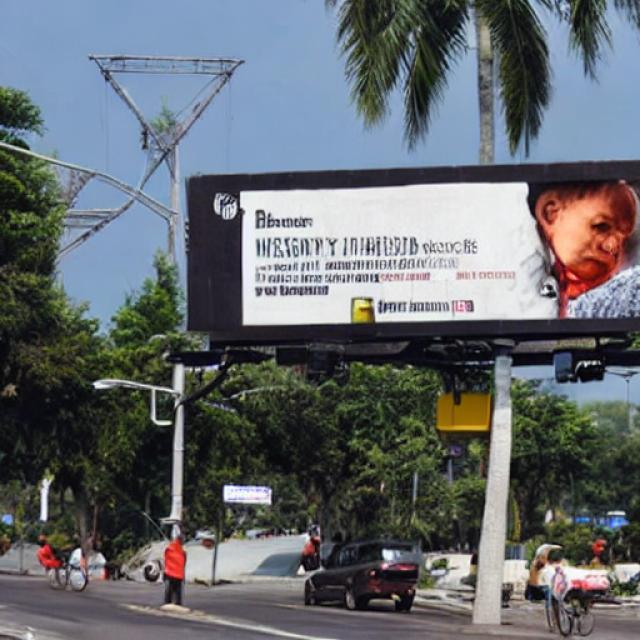Billboard: (184, 159, 640, 351)
